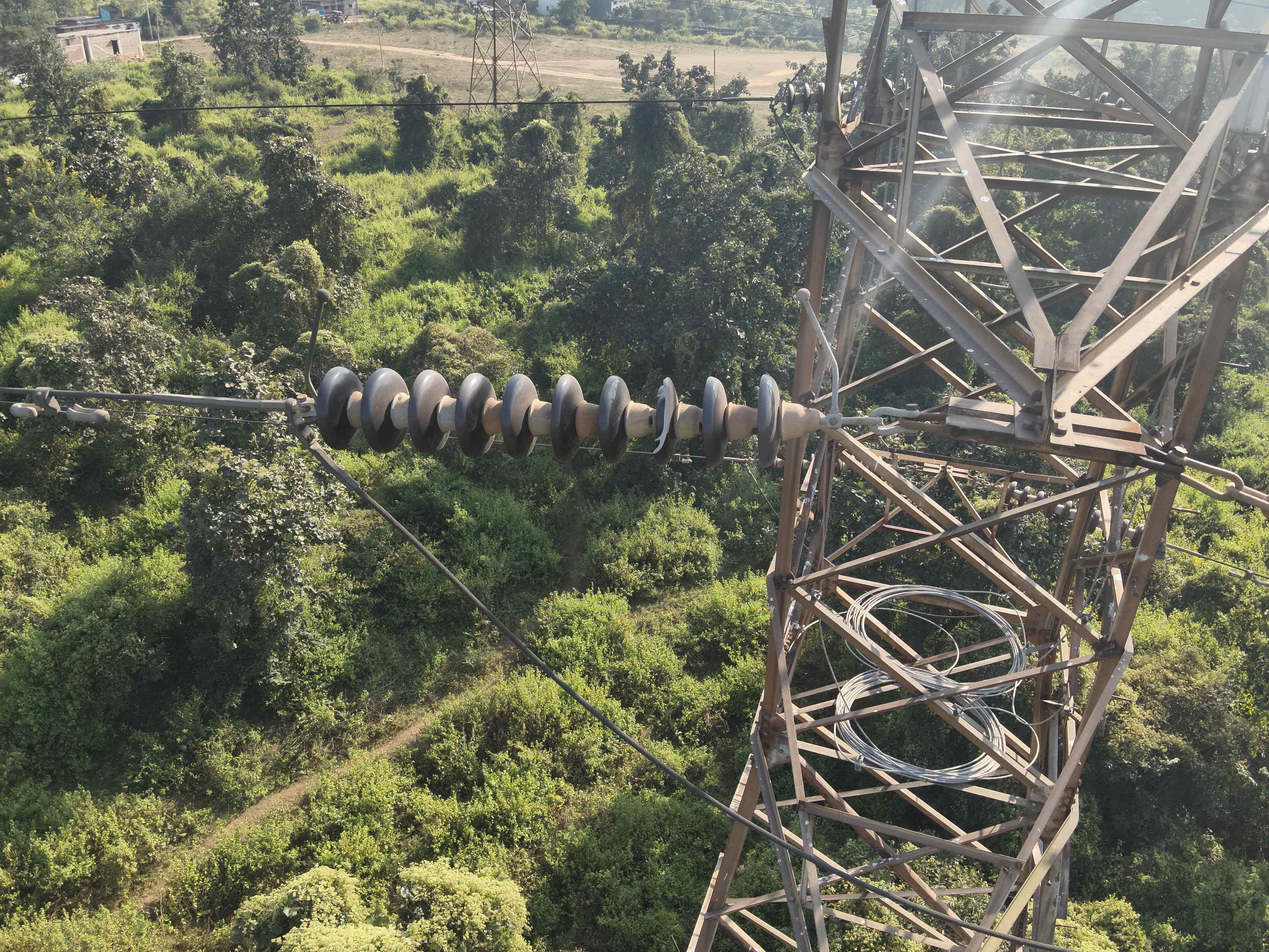broken_insulator: (650, 371, 682, 471)
